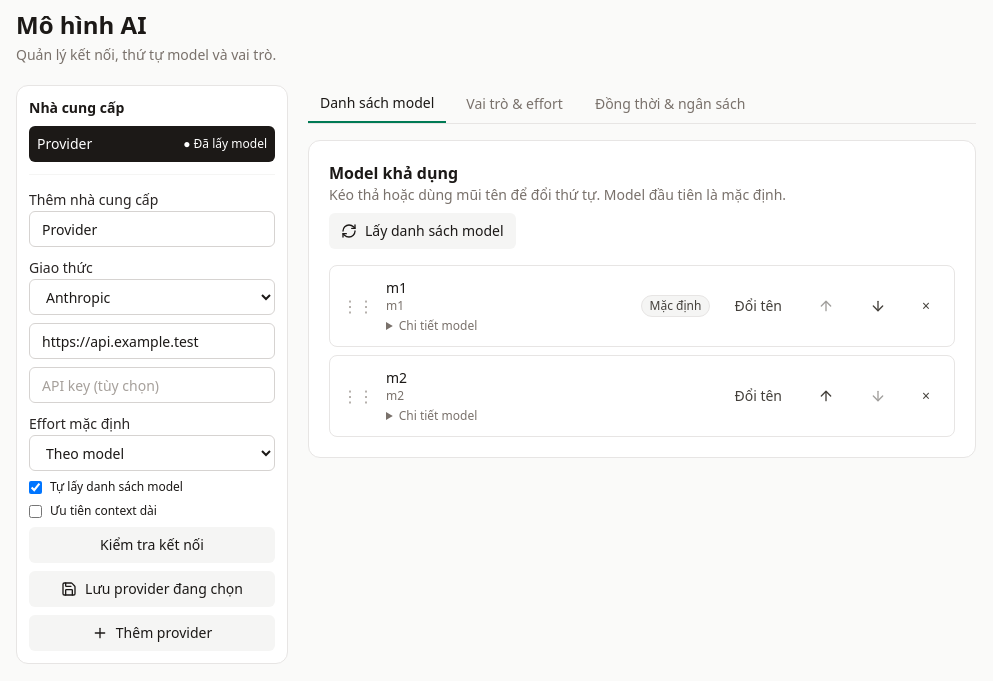
ModelsSettingsPage › shows supported effort values for each assigned model
Check: the text "Mặc định" is shown, box [641,295,710,317]
Click the button "Vai trò & effort" at (515, 104), box [454,85,575,123]
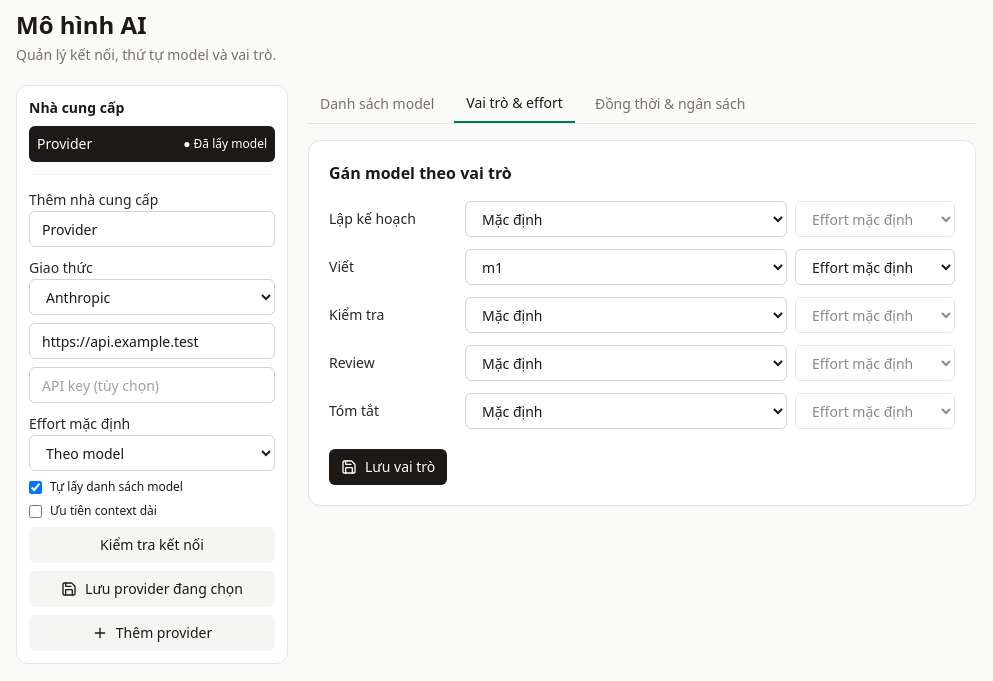
Check: the dropdown named "Effort planner" is disabled, box [795,201,955,237]
